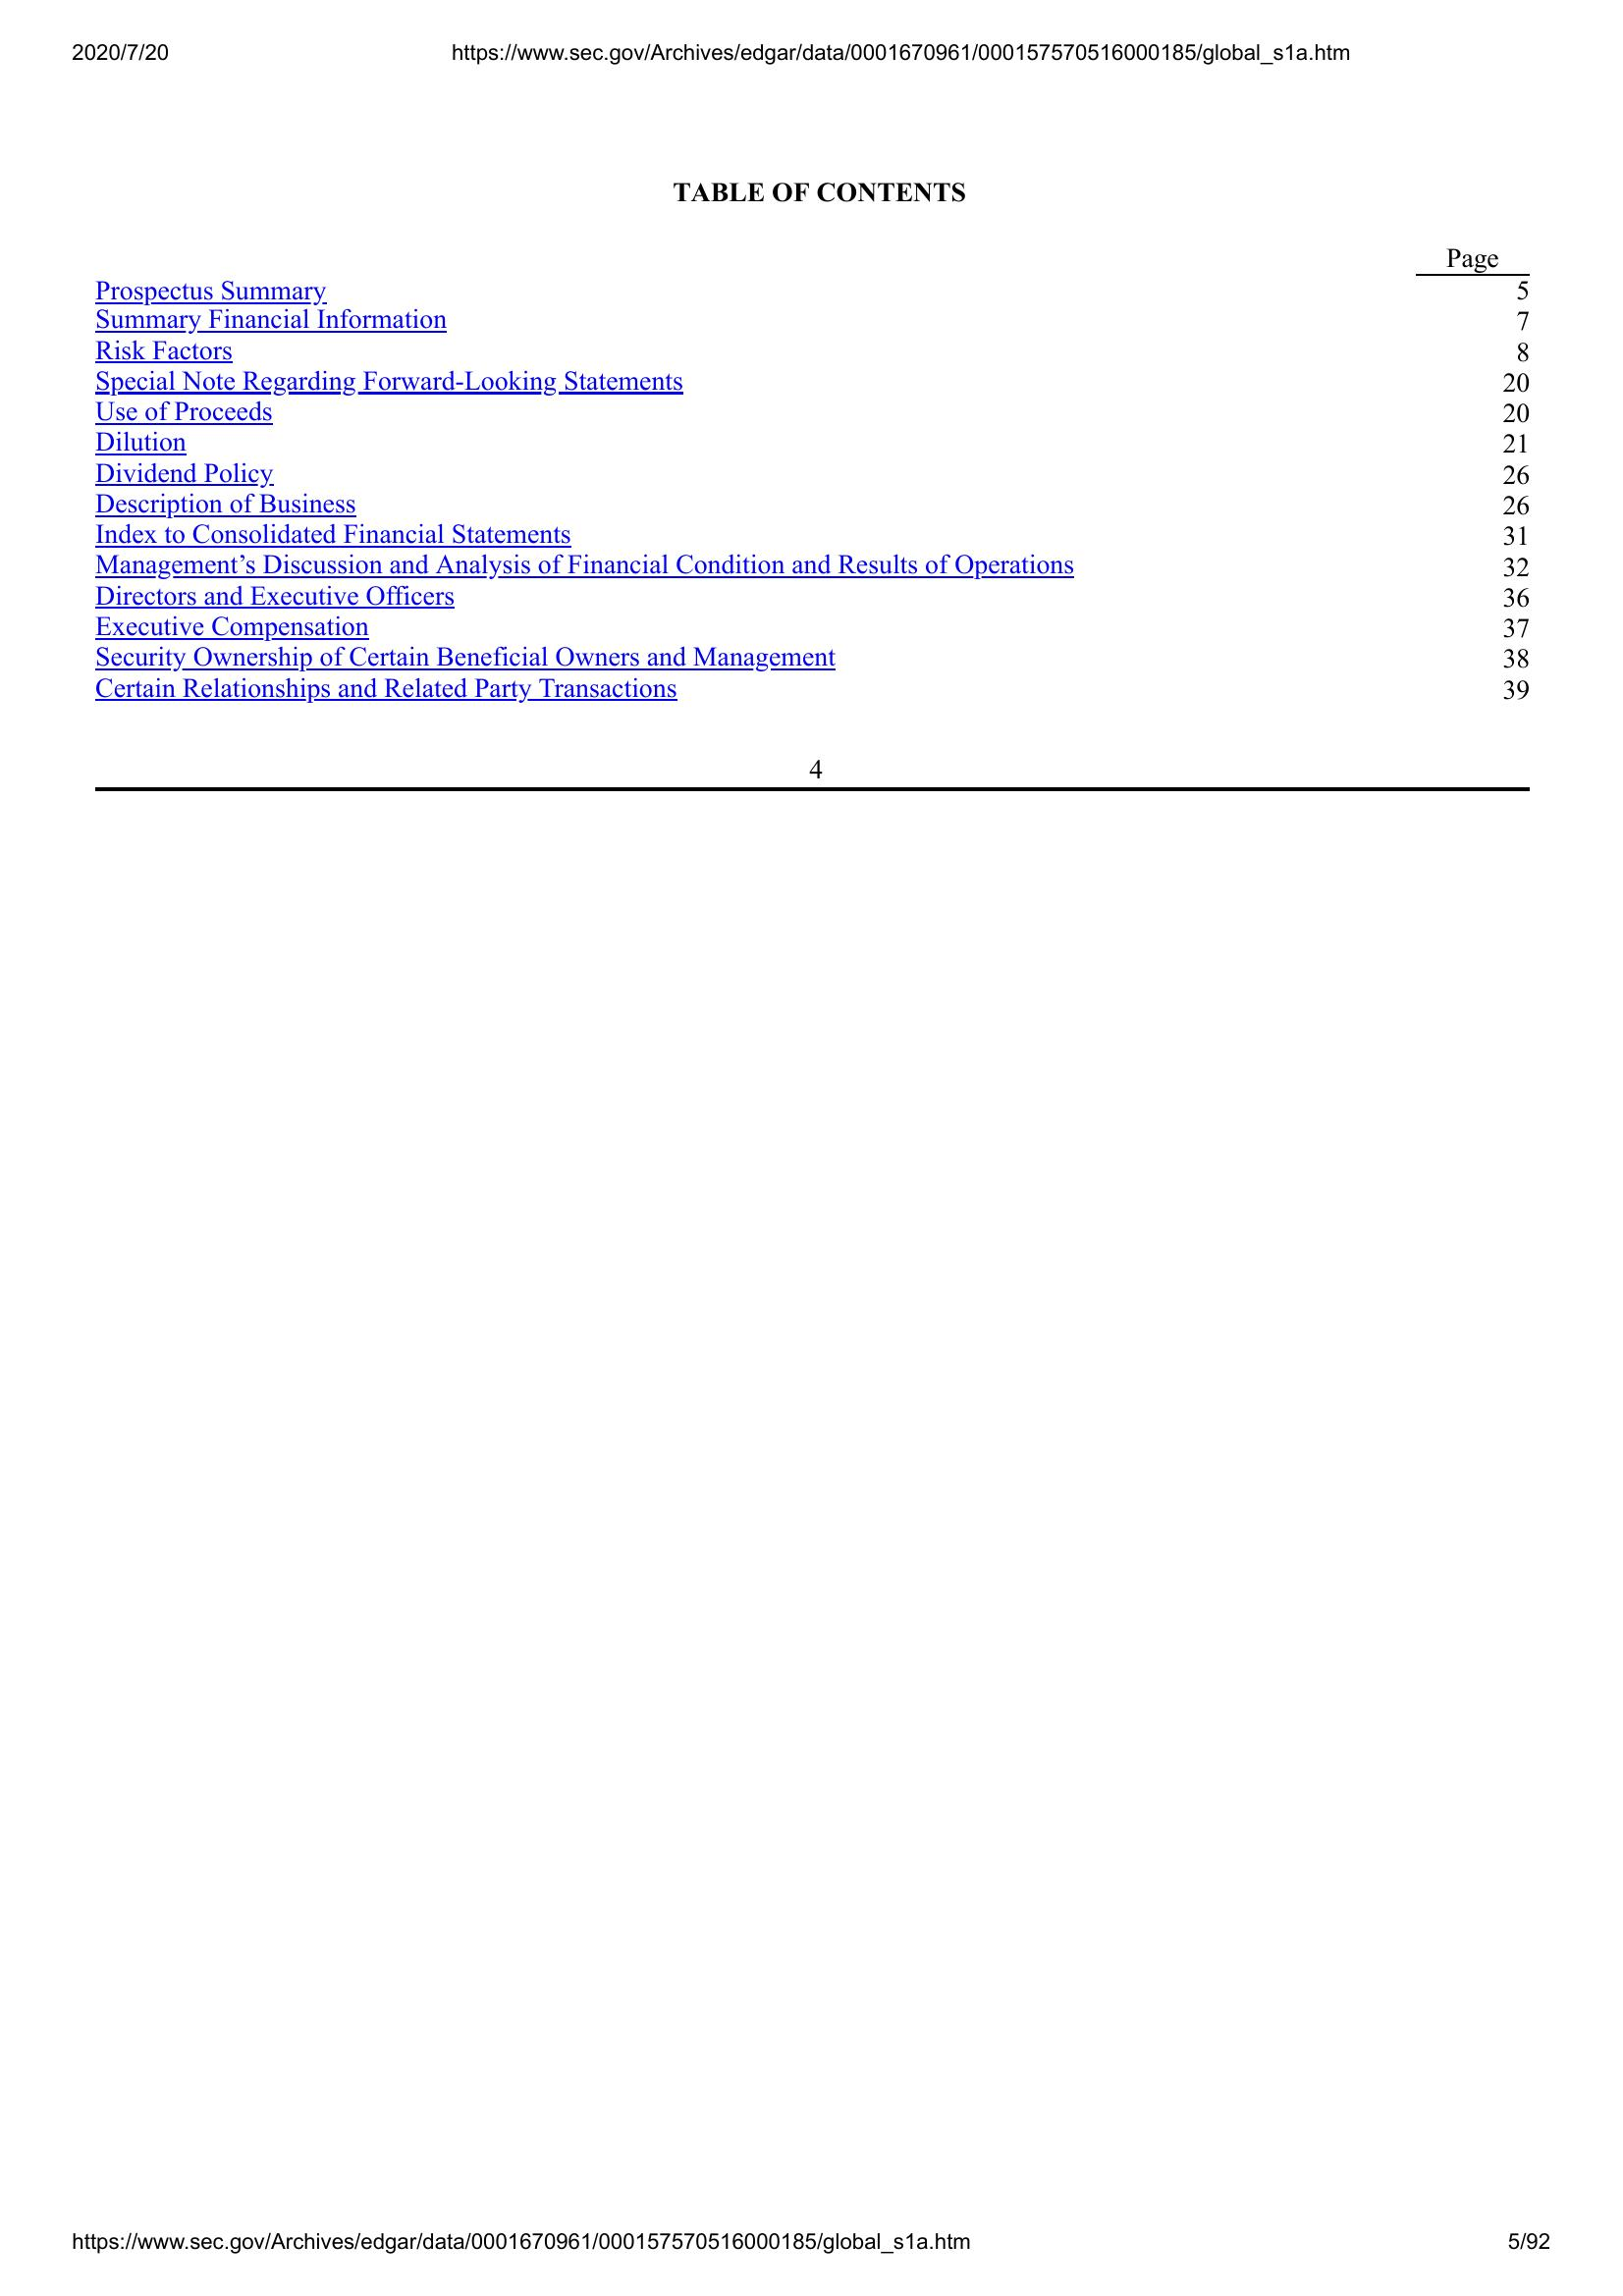table: (84, 242, 1544, 709)
